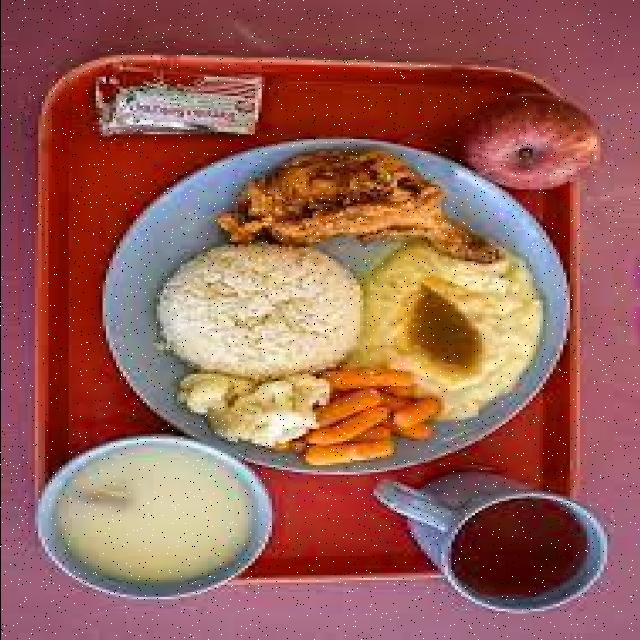Chicken: (220, 151, 498, 259)
Fruits: (461, 96, 599, 187)
Non green veg: (305, 367, 440, 463), (179, 372, 328, 446)
Potato: (359, 240, 542, 417)
Rice: (159, 244, 359, 376)
